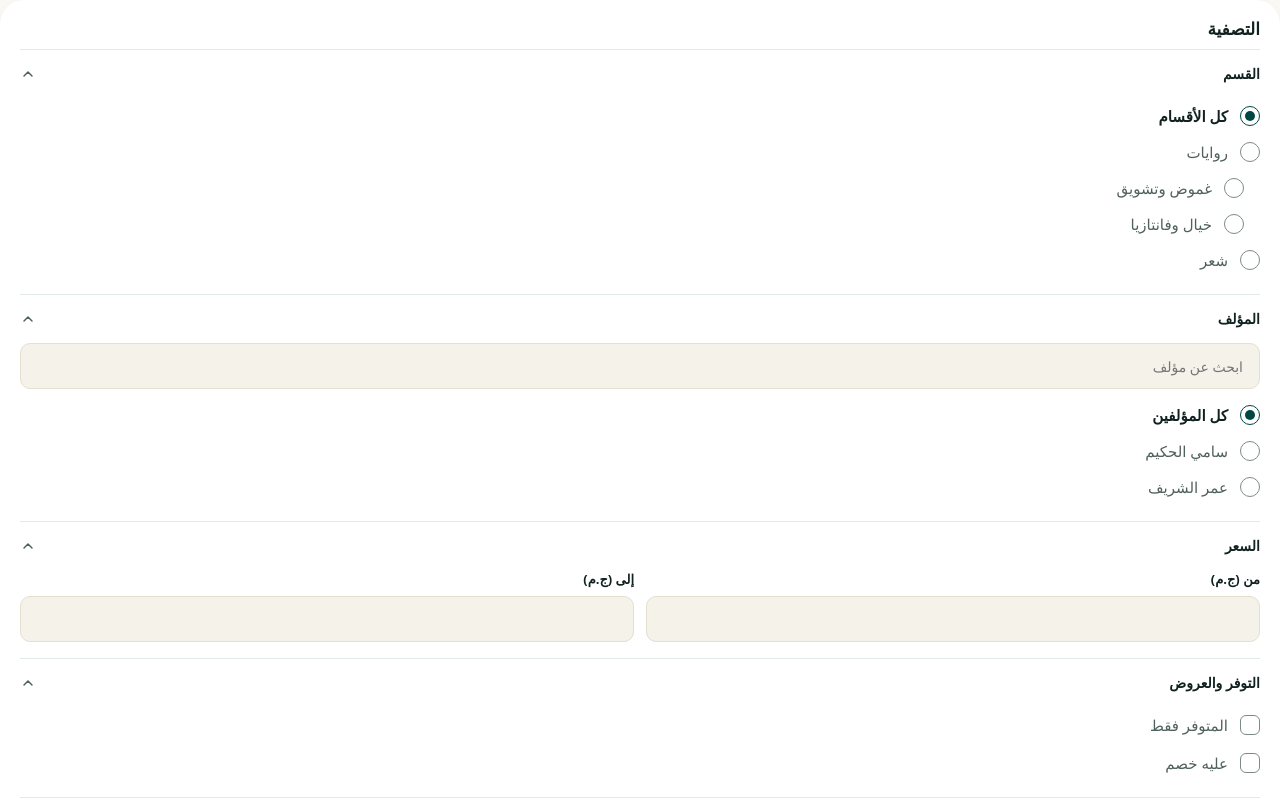
Test: price range › shows the Arabic error for an invalid number and never navigates
Type "abc" into the field labelled "من (ج.م)".
click(953, 619); type("abc")  # box [646, 596, 1260, 642]
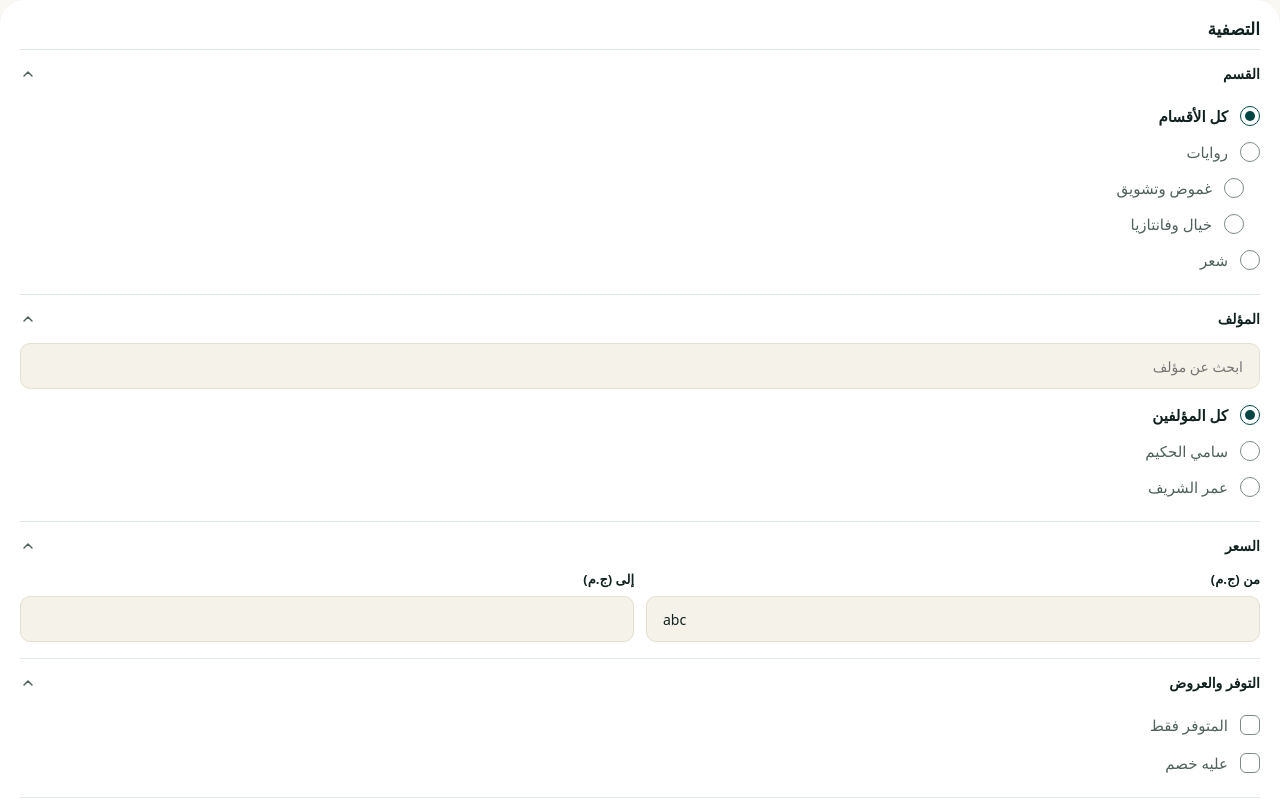
Press Enter in the field labelled "من (ج.م)", box [646, 596, 1260, 642]
Wait 800 ms
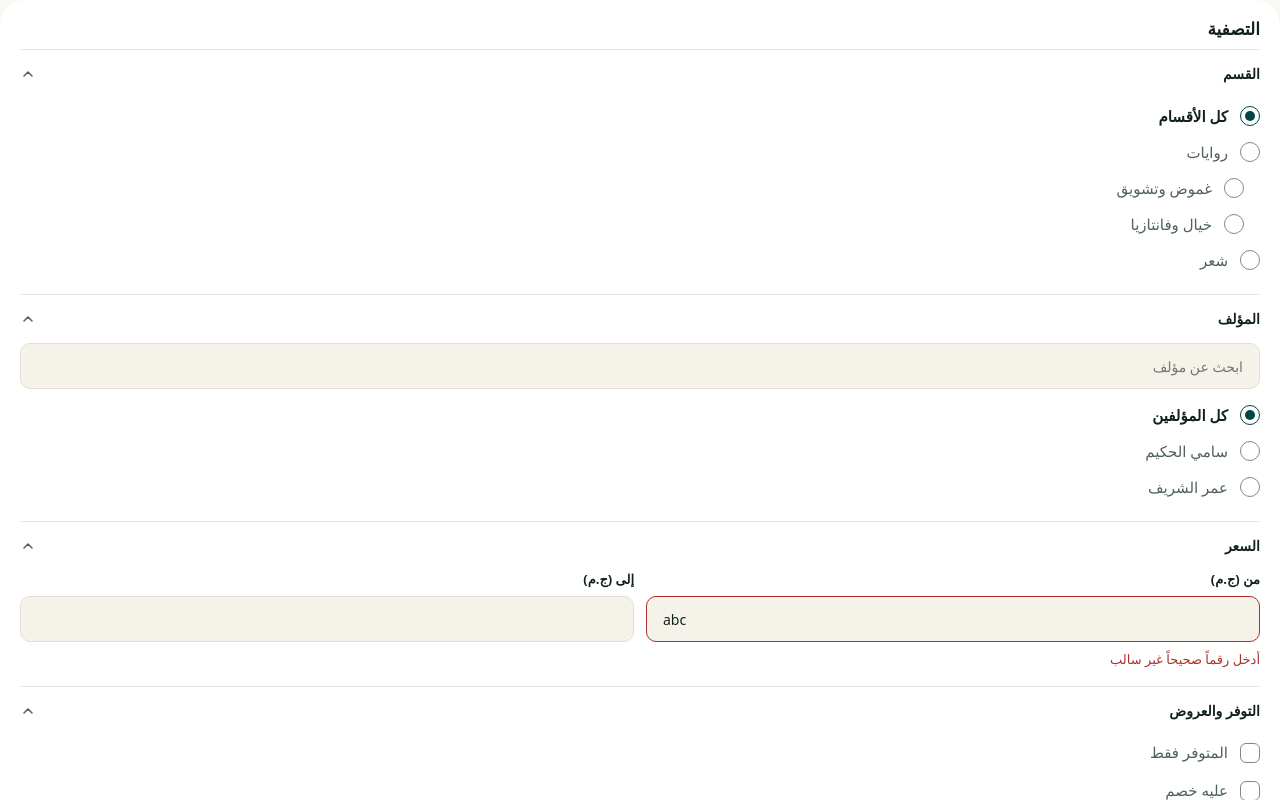
Expected: the text "أدخل رقماً صحيحاً غير سالب" is shown, [1110, 650, 1260, 668]
